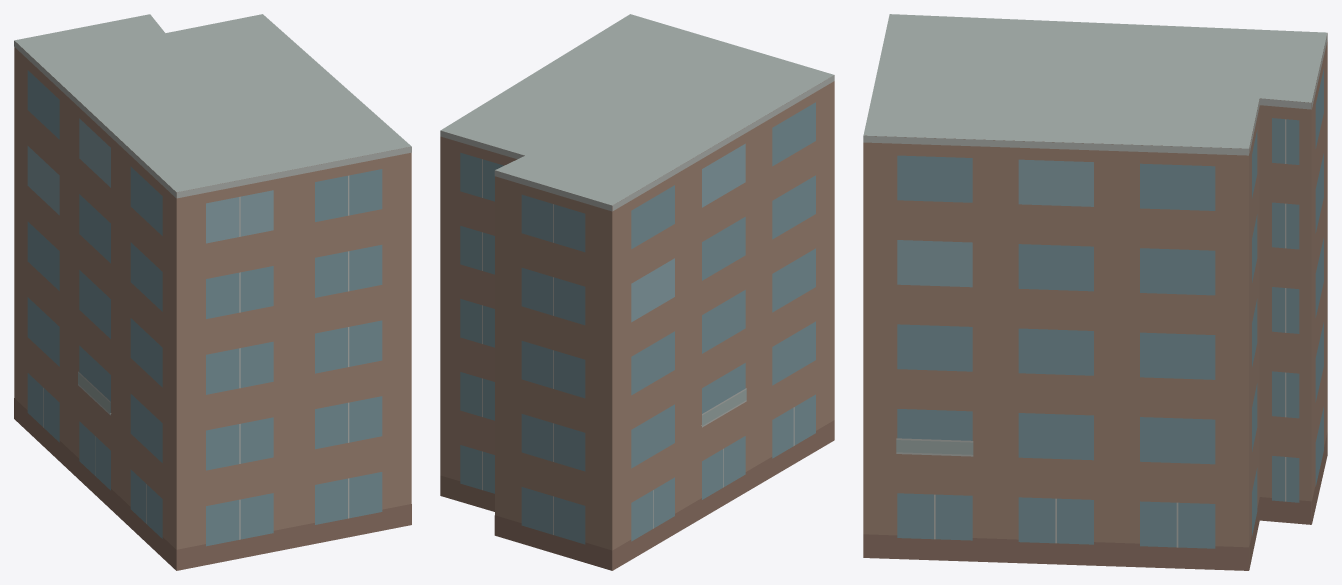
Rendered from survey-upis-32578875.glb.
3 views of the same model, side by side, from view 1: azimuth 30°, elevation 25°; view 2: azimuth 150°, elevation 25°; view 3: azimuth 270°, elevation 25° (orthographic). The views are drawn at different scales.
Visible parts, largest first — view 1: survey-upis-32578875.tmp; view 2: survey-upis-32578875.tmp; view 3: survey-upis-32578875.tmp.
Boxes of the visible parts, <box> form: survey-upis-32578875.tmp: <box>14,14,411,570</box>; survey-upis-32578875.tmp: <box>440,14,834,570</box>; survey-upis-32578875.tmp: <box>863,14,1327,570</box>.
Bounding box in the file's own units: 10.27 × 15 × 14.96.
